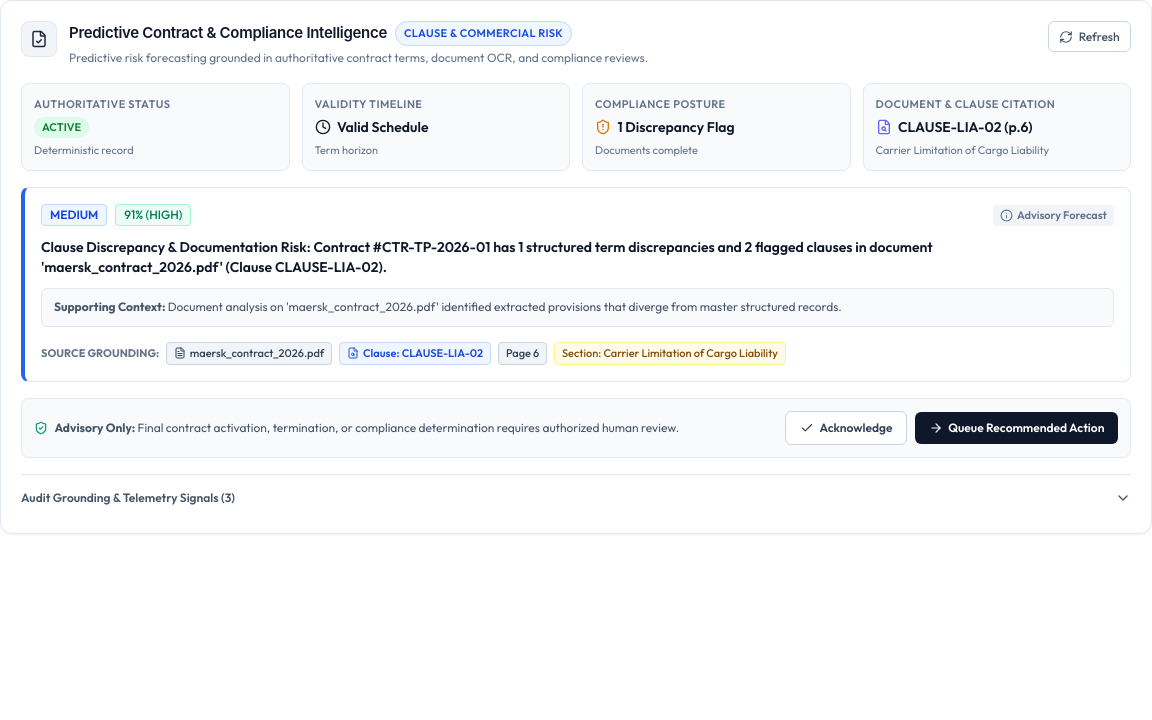
Test: ContractCompliancePredictiveIntelligenceCard › handles operator acknowledgment
Click the button "Acknowledge" at (846,428), box 785,411 -> 907,445
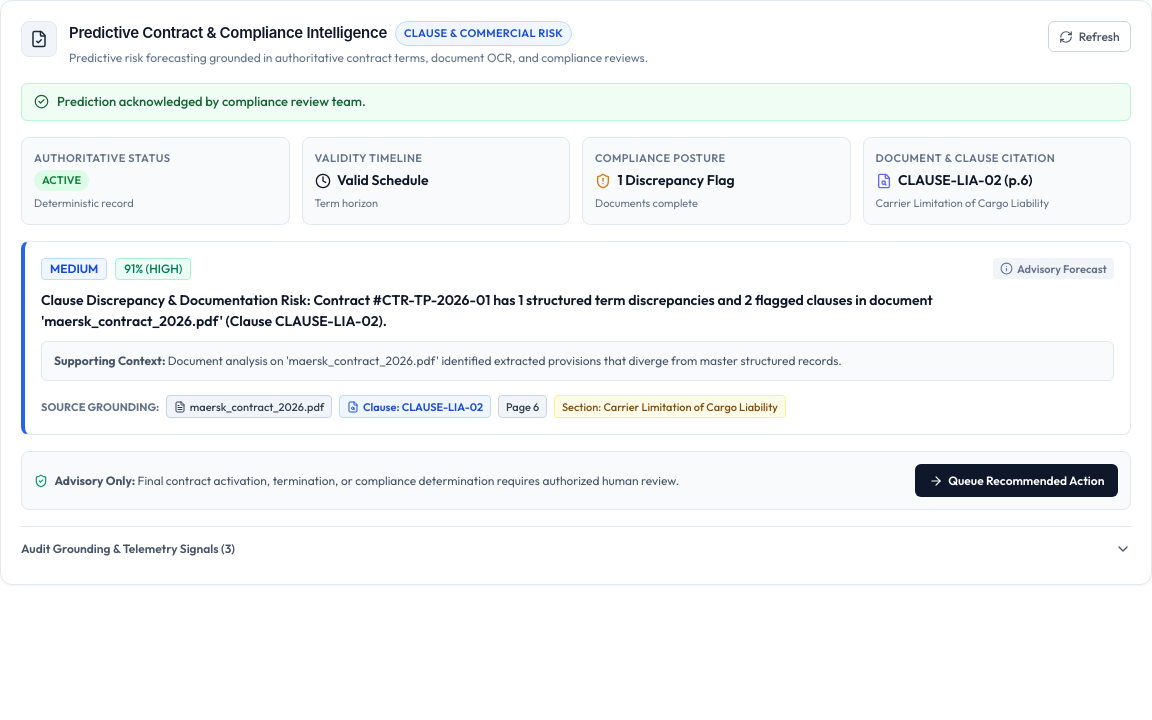
expect the text "Prediction acknowledged by compliance review team." is shown: met, box 57,92 -> 366,112
